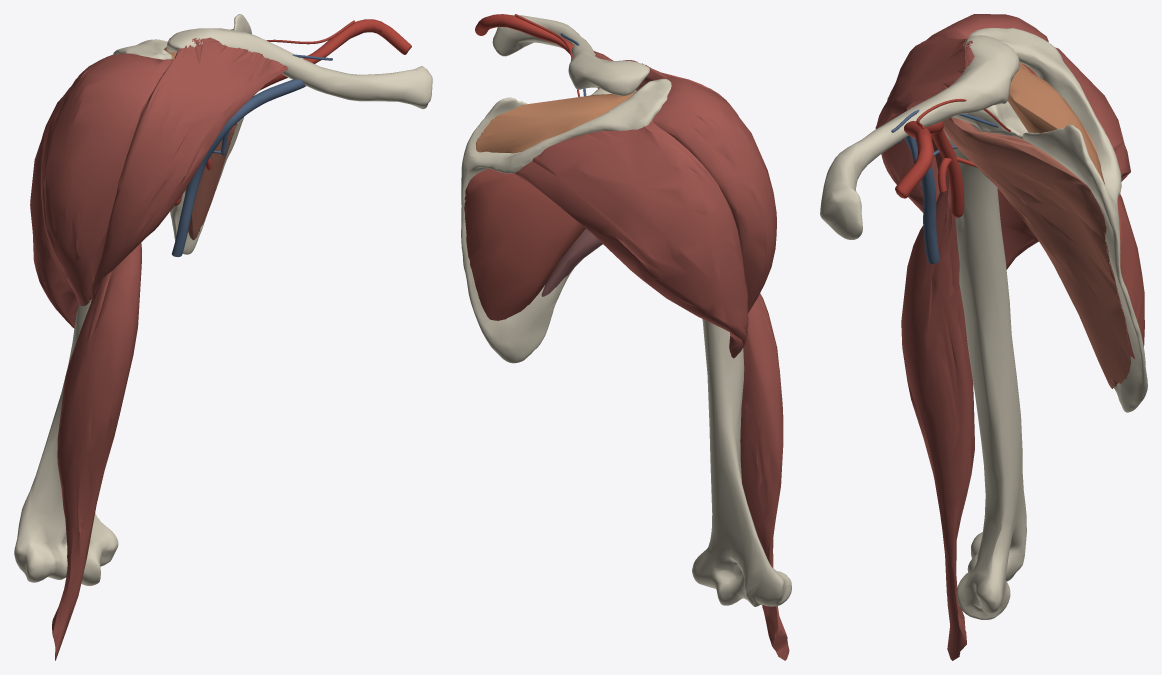
Rendered from shoulder-lod1.glb.
The picture shows the model from 3 angles, left to right: view 1: azimuth 30°, elevation 25°; view 2: azimuth 150°, elevation 25°; view 3: azimuth 270°, elevation 25°; orthographic projection. The views are drawn at different scales.
Parts seen in each view (by area): view 1: FJ1468, FJ1467, FJ1478, FJ3368, FJ3362, FJ1513, FJ2269, FJ3384, FJ1504, FJ3579; view 2: FJ1513, FJ3368, FJ1500, FJ1467, FJ3384, FJ1478, FJ1506, FJ3362, FJ1508, FJ3579, FJ1468; view 3: FJ3368, FJ1478, FJ1504, FJ3384, FJ3362, FJ1468, FJ1506, FJ1513, FJ1500, FJ1467, FJ3579, FJ2268 (+1 smaller).
Part boxes in pixels (x1,y1,x2,y2): FJ1468: (91, 37, 288, 301); FJ1467: (41, 53, 173, 305); FJ1478: (52, 243, 141, 660); FJ3368: (14, 299, 118, 585); FJ3362: (166, 28, 432, 109); FJ1513: (30, 54, 112, 328); FJ2269: (172, 79, 305, 256); FJ3384: (113, 14, 251, 254); FJ1504: (185, 121, 238, 240); FJ3579: (303, 19, 411, 63); FJ1513: (514, 120, 748, 358); FJ3368: (692, 319, 791, 606); FJ1500: (464, 168, 585, 320); FJ1467: (652, 77, 776, 312); FJ3384: (461, 78, 671, 363); FJ1478: (740, 293, 789, 660); FJ1506: (476, 92, 635, 153); FJ3362: (492, 15, 649, 95); FJ1508: (541, 229, 602, 296); FJ3579: (475, 14, 573, 54); FJ1468: (593, 50, 738, 116); FJ3368: (944, 131, 1026, 619); FJ1478: (901, 158, 974, 660); FJ1504: (943, 117, 1130, 388); FJ3384: (952, 28, 1147, 412); FJ3362: (820, 35, 1019, 239); FJ1468: (875, 36, 974, 212); FJ1506: (1007, 62, 1104, 184); FJ1513: (997, 47, 1130, 269); FJ1500: (1022, 63, 1144, 358); FJ1467: (927, 14, 1048, 170); FJ3579: (895, 121, 933, 198); FJ2268: (926, 121, 964, 217).
Bounding box in the file's own units: 2.31 × 3.61 × 1.52.
